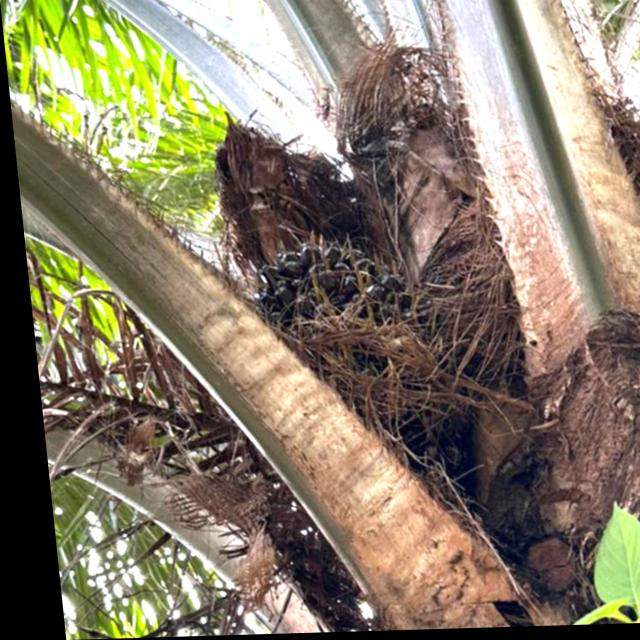unripe: (231, 225, 521, 523)
